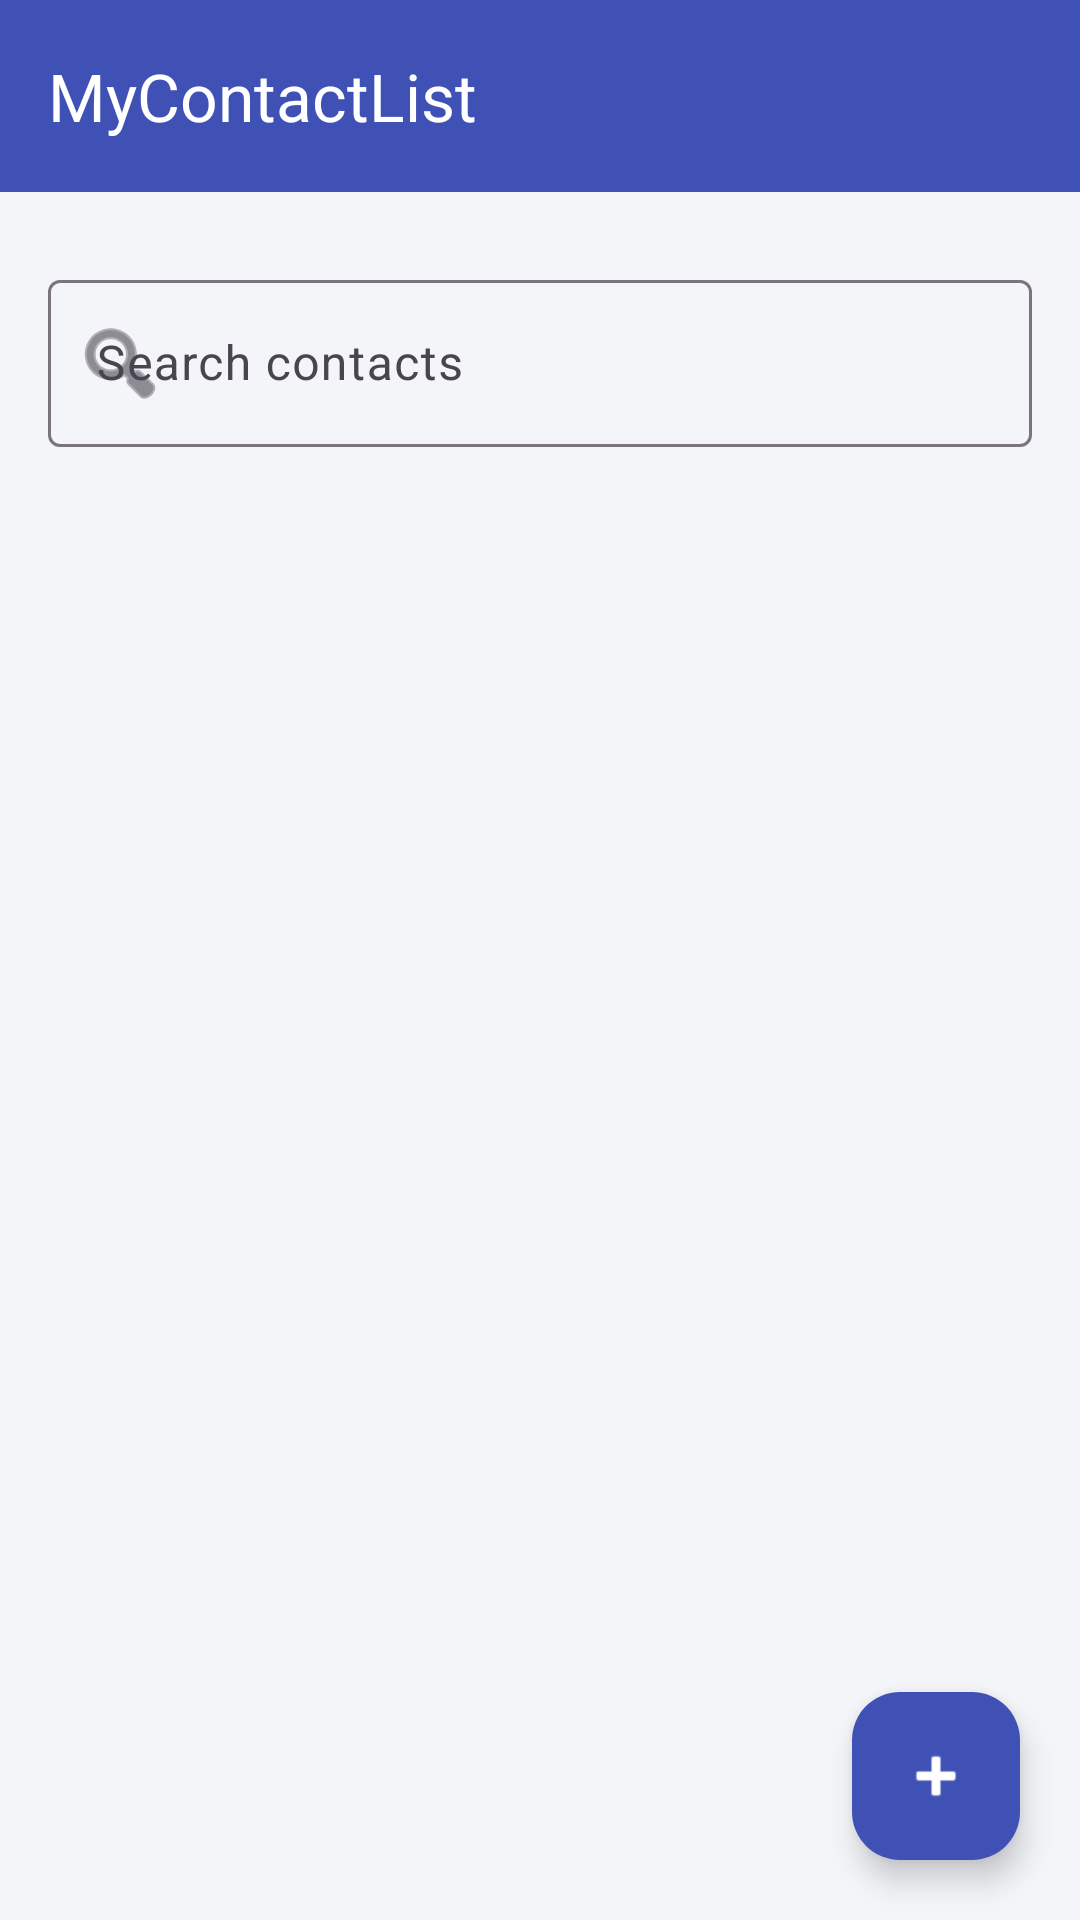

Locate icon controls on the screen. Image size 1080 x 1920, boxes as (x1, y1, x2, y2).
Add contact: (852, 1692, 1020, 1860)
